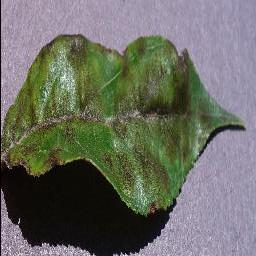apple healthy: (0, 32, 246, 218)
